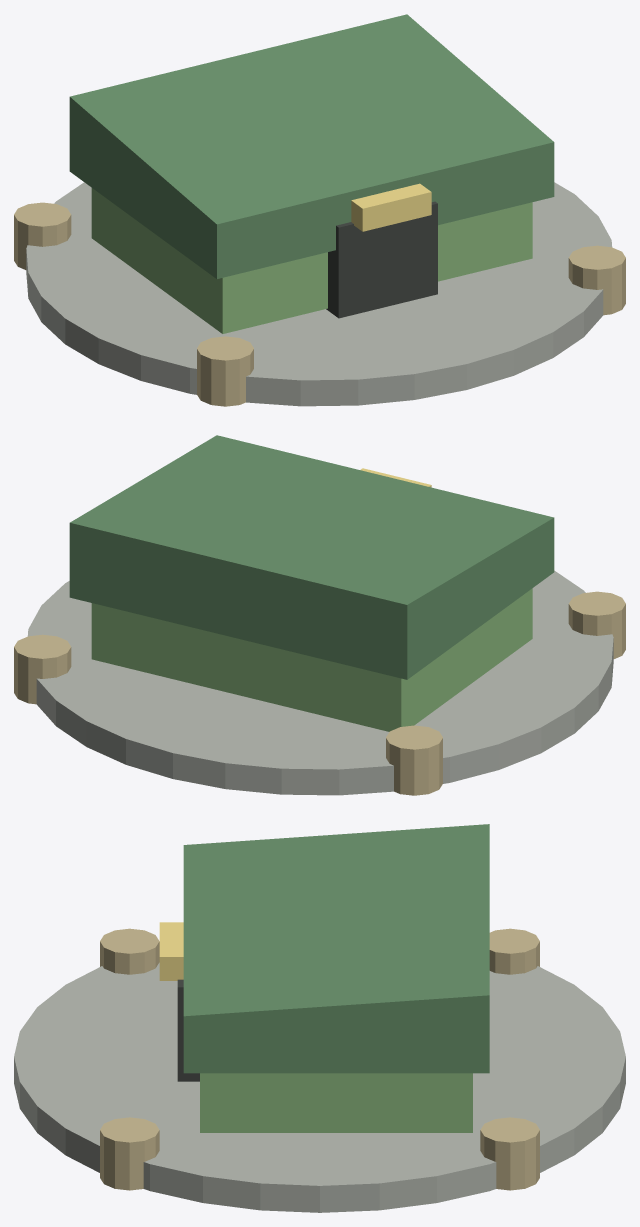
File: worker_spawn_base.glb
3 renders of one model, top to bottom at view 1: azimuth 30°, elevation 25°; view 2: azimuth 150°, elevation 25°; view 3: azimuth 270°, elevation 25°, orthographic. The views are drawn at different scales.
Parts seen in each view (by area): view 1: sloped_roof, round_foundation, main_spawn_building, front_door, sandbag_2, sandbag_3, spawn_light, sandbag_0; view 2: sloped_roof, round_foundation, main_spawn_building, sandbag_0, sandbag_1, sandbag_2; view 3: sloped_roof, round_foundation, main_spawn_building, sandbag_1, sandbag_3, sandbag_2, sandbag_0, spawn_light, front_door.
Boxes of the visible parts, <box> form: sloped_roof: <box>69,14,554,278</box>; round_foundation: <box>26,182,612,406</box>; main_spawn_building: <box>91,188,532,333</box>; front_door: <box>326,201,437,318</box>; sandbag_2: <box>197,336,253,406</box>; sandbag_3: <box>568,245,625,315</box>; spawn_light: <box>351,183,431,231</box>; sandbag_0: <box>14,202,71,269</box>; sloped_roof: <box>69,435,554,679</box>; round_foundation: <box>27,570,613,795</box>; main_spawn_building: <box>91,588,532,731</box>; sandbag_0: <box>386,725,442,795</box>; sandbag_1: <box>14,634,71,704</box>; sandbag_2: <box>568,591,625,658</box>; sloped_roof: <box>183,824,489,1073</box>; round_foundation: <box>14,962,625,1212</box>; main_spawn_building: <box>200,1073,472,1132</box>; sandbag_1: <box>480,1117,539,1190</box>; sandbag_3: <box>100,1117,159,1190</box>; sandbag_2: <box>100,928,159,974</box>; sandbag_0: <box>489,928,539,974</box>; spawn_light: <box>159,922,183,980</box>; front_door: <box>177,979,199,1081</box>.
Bounding box in the file's own units: 3.7 × 1.16 × 3.7.
